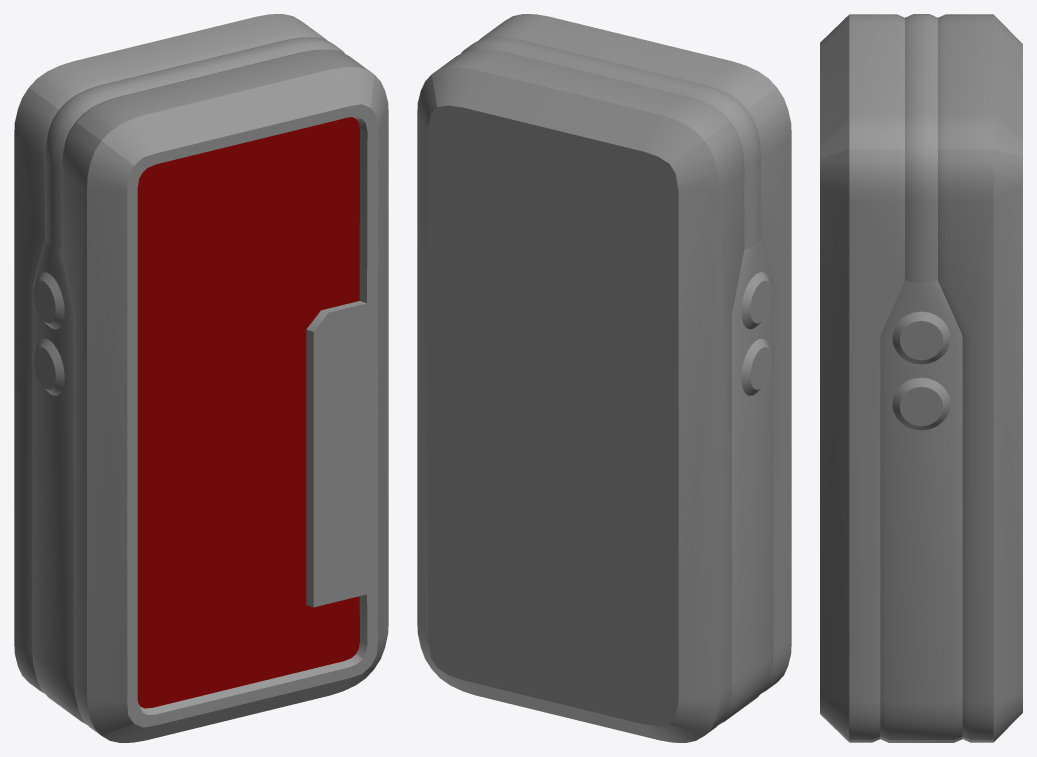
The model's file is SM_Snack_machine_a.FBX.
3 views of the same model, side by side, from view 1: azimuth 30°, elevation 25°; view 2: azimuth 150°, elevation 25°; view 3: azimuth 270°, elevation 25° (orthographic).
Parts seen in each view (by area): view 1: Object196; view 2: Object196; view 3: Object196.
Part boxes in pixels (x1,y1,x2,y2): Object196: (14, 14, 388, 742); Object196: (417, 14, 791, 742); Object196: (820, 14, 1022, 742).
Size of the model in its own units: 142 by 271 by 80.22.
